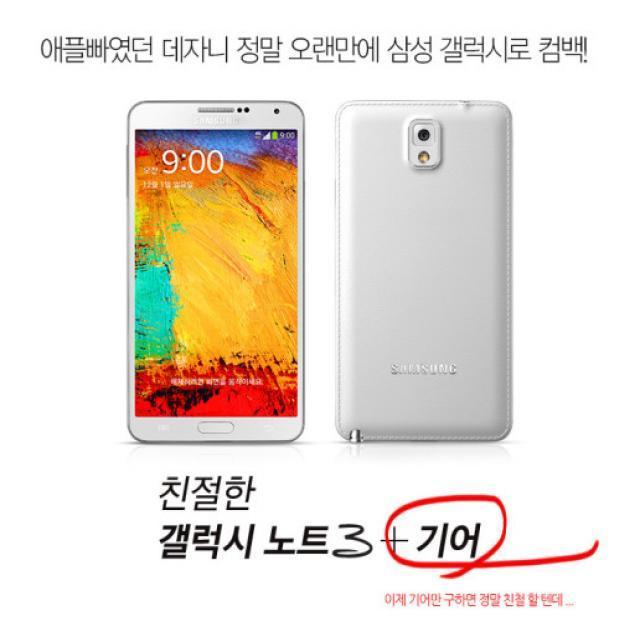phone: (333, 100, 514, 442)
